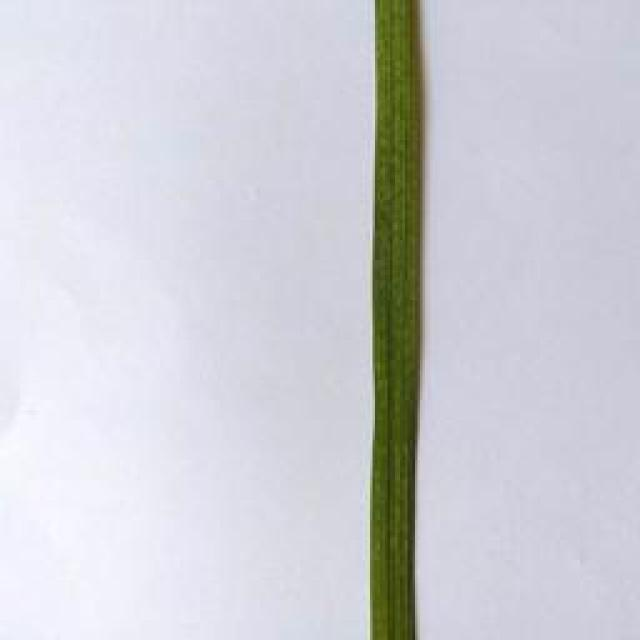Healthy-Plant: (367, 0, 423, 640)
